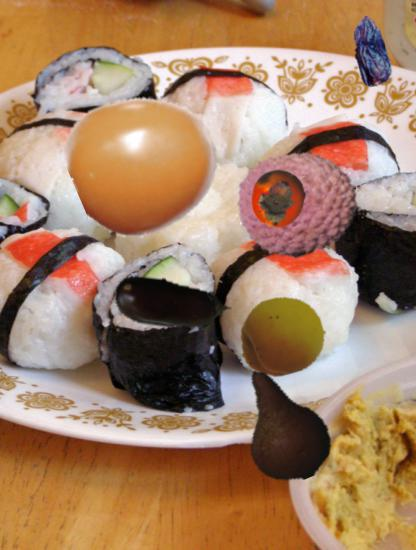Dates: (337, 16, 409, 88)
Eggplant: (112, 243, 233, 364)
Kaki: (249, 169, 309, 229)
Lychee: (237, 143, 358, 264)
Peach: (238, 292, 326, 380)
Pear: (222, 364, 342, 484)
Tomato: (71, 88, 219, 236)
